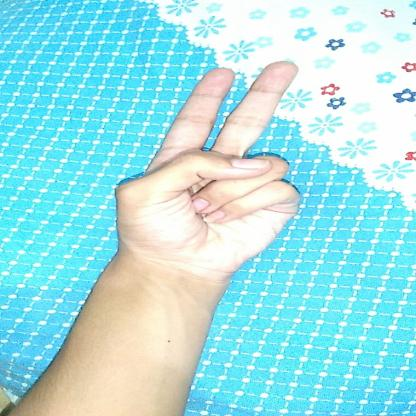hand: (8, 54, 307, 416)
